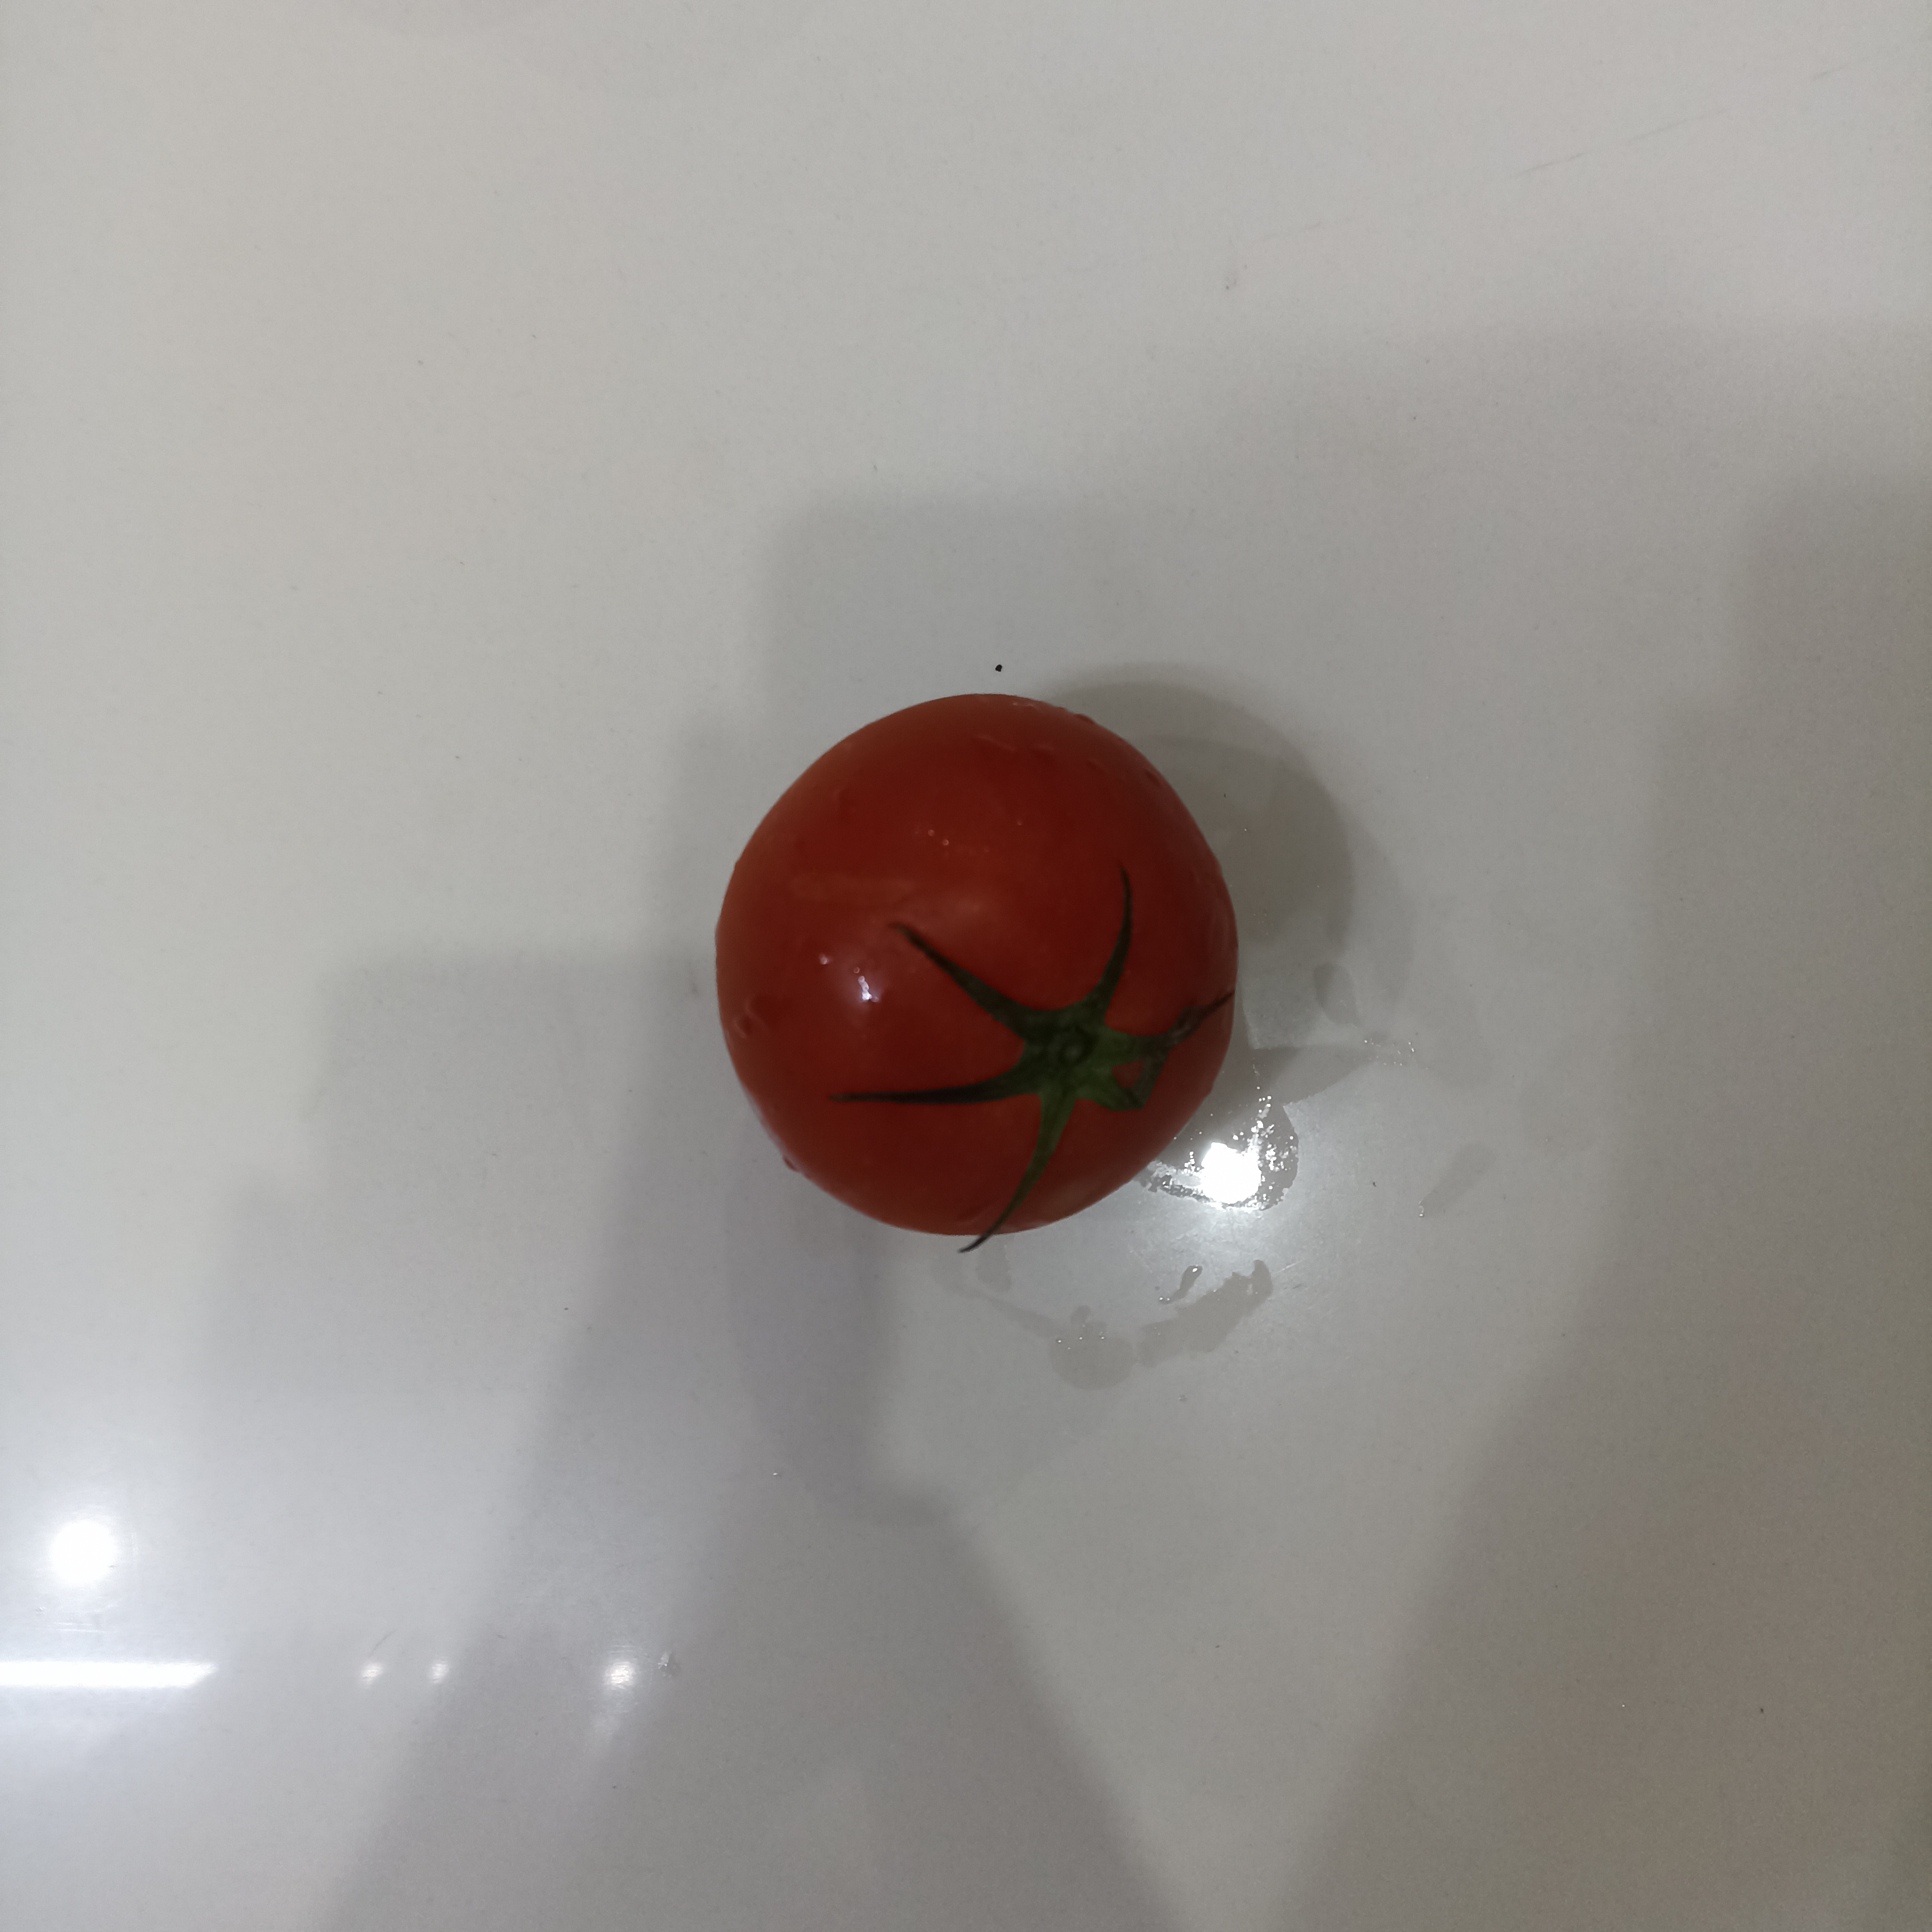Ca chua: (704, 692, 1238, 1237)
